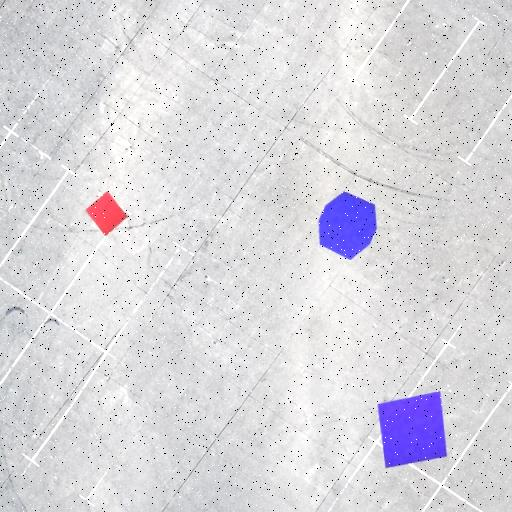BLUE_SQUARE: (377, 390, 448, 469)
RED_SQUARE: (85, 190, 128, 237)
